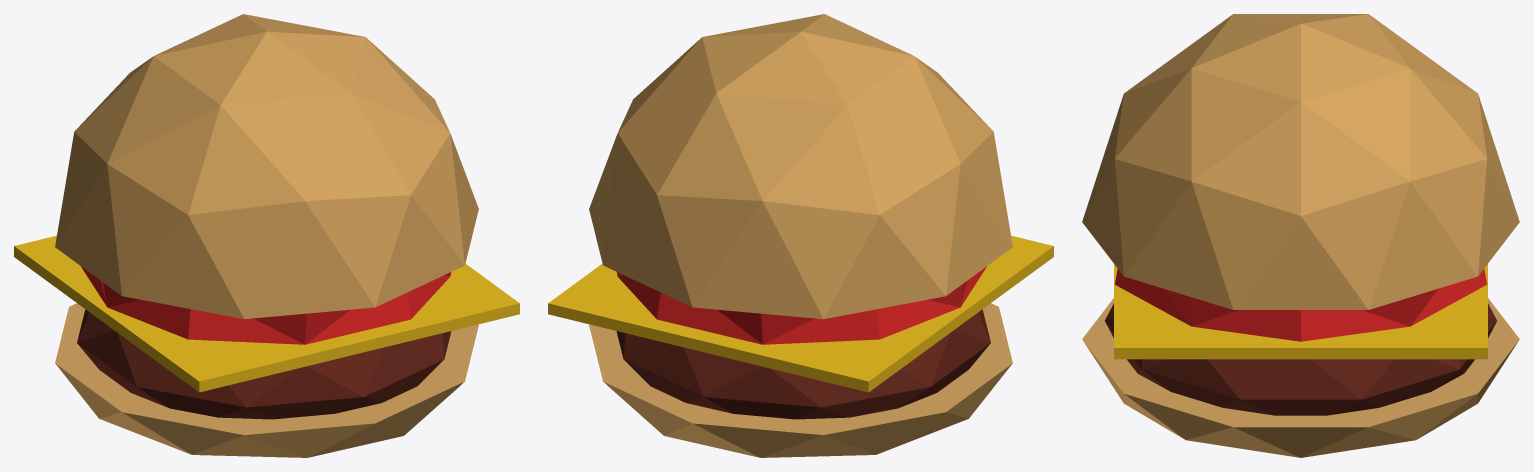
The model's file is burger.dae.
3 renders of one model, left to right at view 1: azimuth 30°, elevation 25°; view 2: azimuth 150°, elevation 25°; view 3: azimuth 270°, elevation 25°, orthographic.
Visible parts, largest first — view 1: bread_bottom; view 2: bread_bottom; view 3: bread_bottom.
Boxes of the visible parts, <box> form: bread_bottom: <box>14,14,519,457</box>; bread_bottom: <box>548,14,1053,457</box>; bread_bottom: <box>1082,14,1519,457</box>.
Size of the model in its own units: 1.9 by 2 by 1.97.
